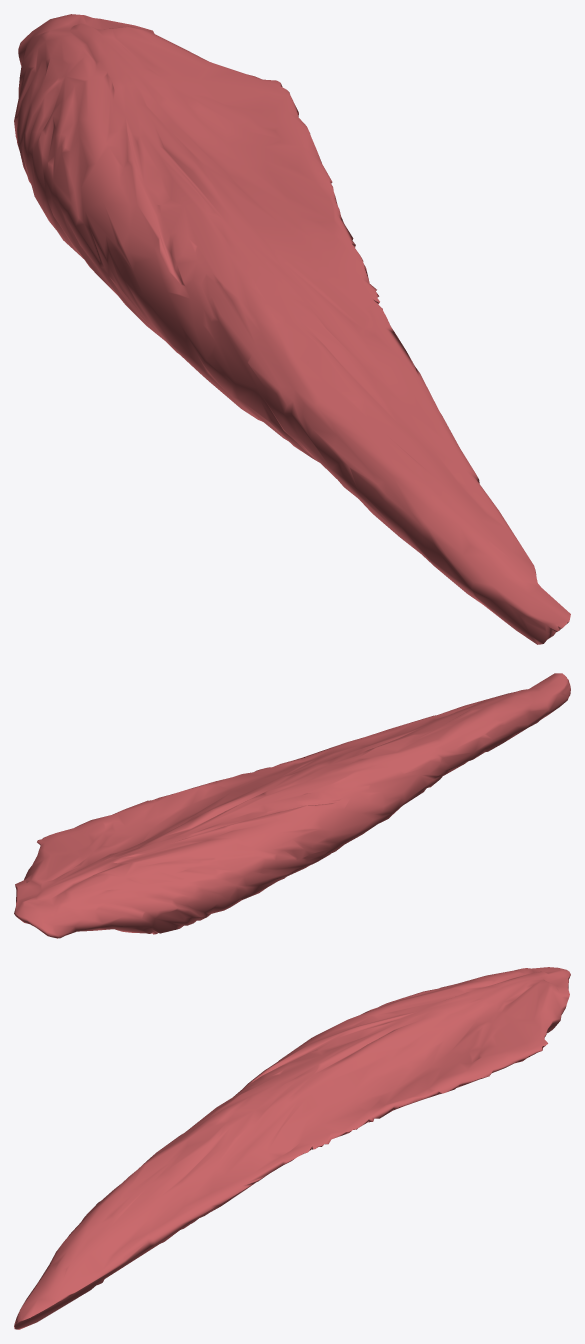
The picture shows the model from 3 angles, top to bottom: view 1: azimuth 30°, elevation 25°; view 2: azimuth 150°, elevation 25°; view 3: azimuth 330°, elevation 25°; orthographic projection. The views are drawn at different scales.
Visible parts, largest first — view 1: 左侧肱三头肌内侧头; view 2: 左侧肱三头肌内侧头; view 3: 左侧肱三头肌内侧头.
Part boxes in pixels (box(x1,y1,x2,y2)): 左侧肱三头肌内侧头: box(14, 14, 570, 644); 左侧肱三头肌内侧头: box(14, 673, 570, 938); 左侧肱三头肌内侧头: box(14, 967, 570, 1329).
Size of the model in its own units: 0.0918 by 0.0394 by 0.3453.
